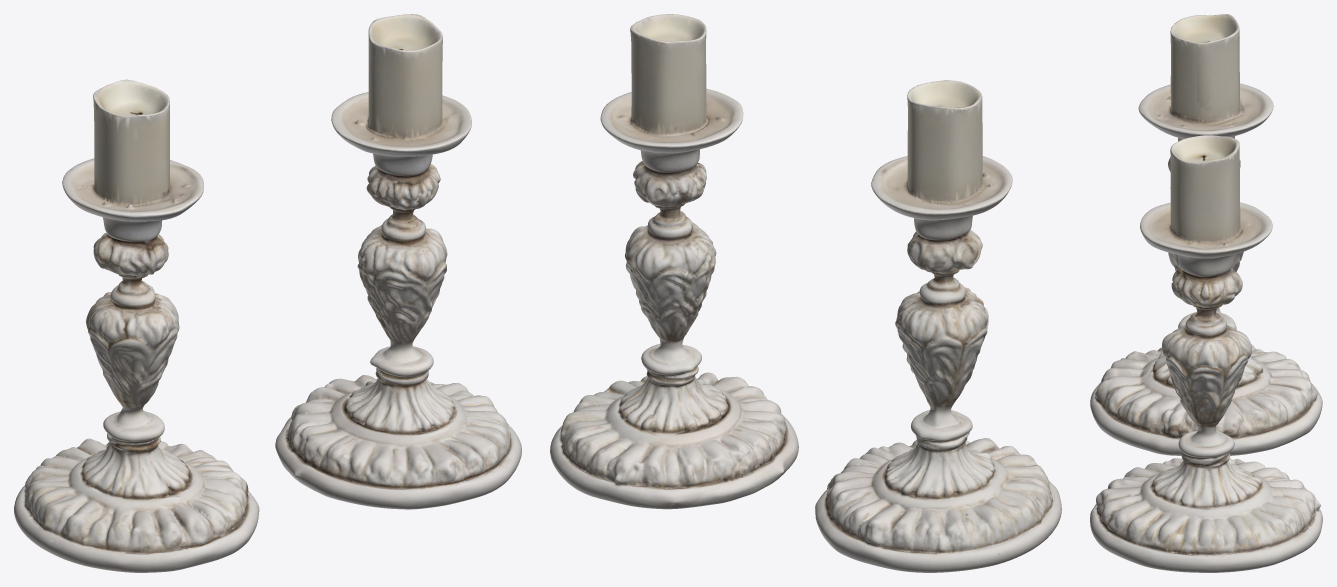
File: Meshy_AI_Short_European_stlyed_0330052054_texture.glb
3 views of the same model, side by side, from view 1: azimuth 30°, elevation 25°; view 2: azimuth 150°, elevation 25°; view 3: azimuth 270°, elevation 25° (orthographic). The views are drawn at different scales.
Bounding box in the file's own units: 2 × 1.75 × 0.9508.
1 material, 1 textured.
